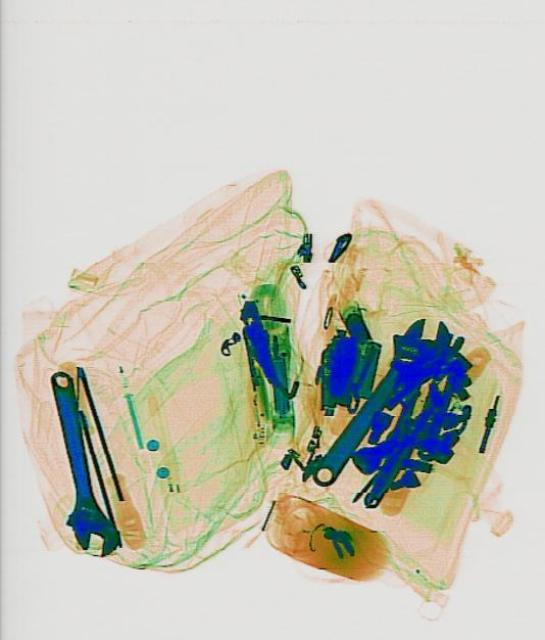Wrench: (297, 304, 460, 500), (35, 362, 123, 562)
